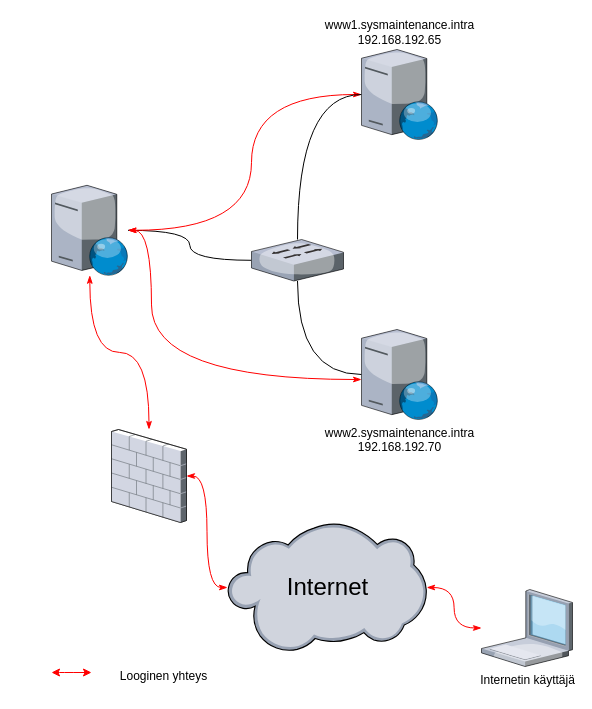
Image size: 592x709. Some labels were removed from this diagram. The shapes that lost their labels are listed below. From the top down, each one's centre as x and y in pixels, then its label:
pixel 89 230: nginx.sysmaintenance.intra 192.168.192.60
pixel 148 475: Palomuuri
